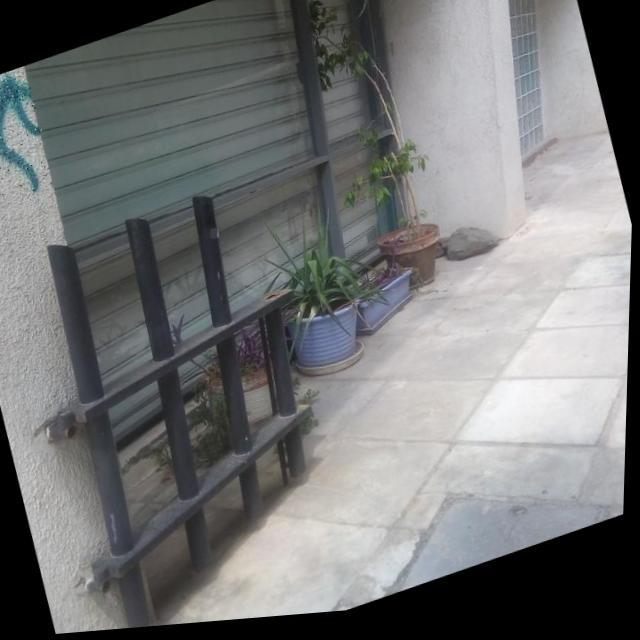-: (0, 63, 58, 215)
